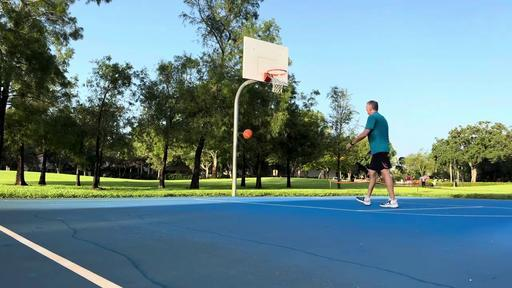ball: (243, 128, 254, 140)
human: (346, 100, 398, 208)
rim: (268, 70, 286, 94)
